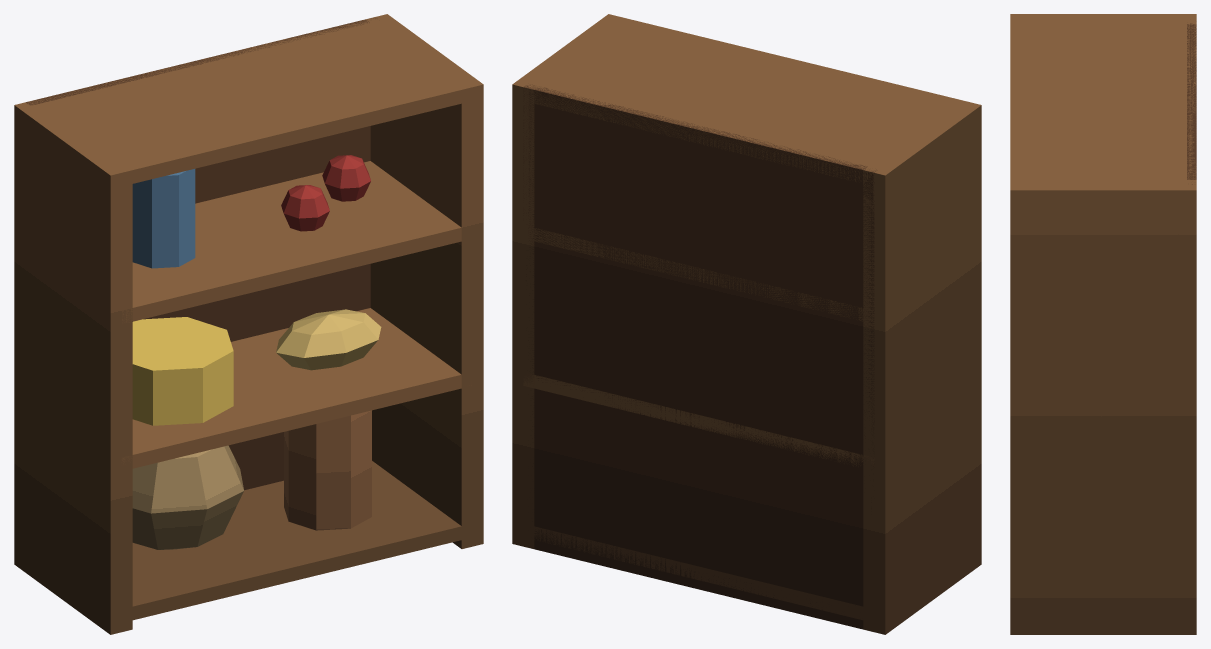
Rendered from food_storage.glb.
3 views of the same model, side by side, from view 1: azimuth 30°, elevation 25°; view 2: azimuth 150°, elevation 25°; view 3: azimuth 270°, elevation 25° (orthographic). The views are drawn at different scales.
Bounding box in the file's own units: 0.85 × 1 × 0.38.
1 material, 1 textured.
